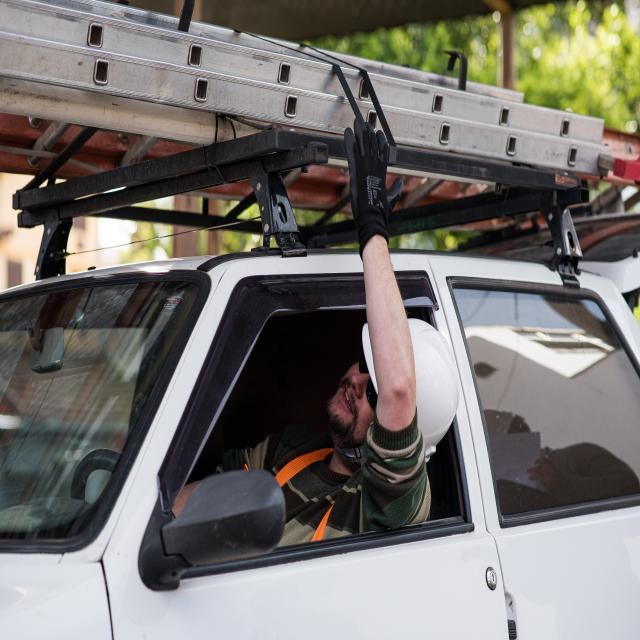capacete: (358, 314, 466, 485)
luva: (340, 110, 398, 267)
